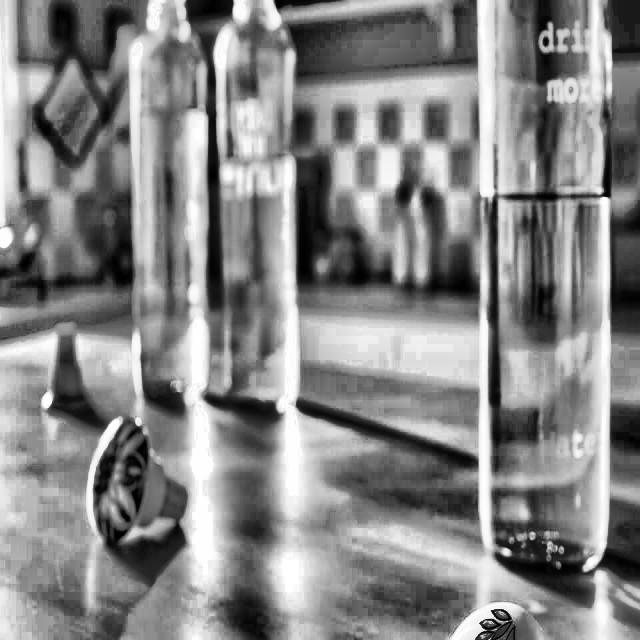bottle: (470, 0, 620, 568), (151, 0, 305, 413)
